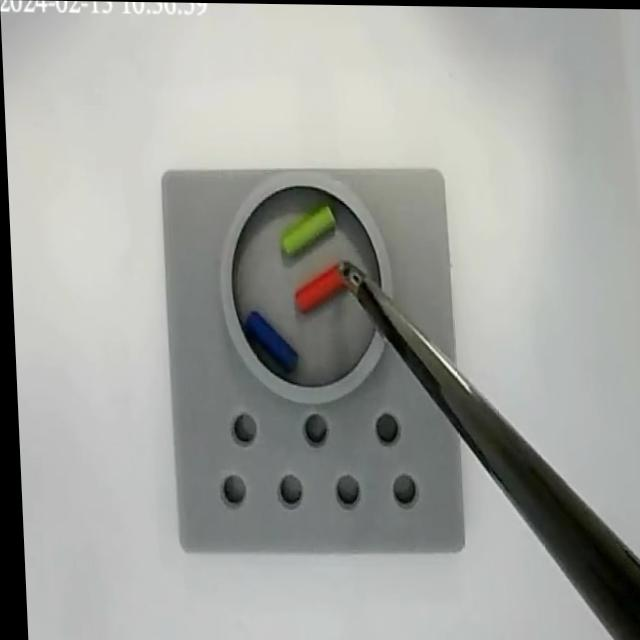EmptyHole: (385, 470, 416, 509), (329, 469, 357, 510), (227, 408, 255, 448), (270, 472, 301, 507), (215, 471, 243, 507), (298, 410, 325, 447), (370, 410, 397, 446)
